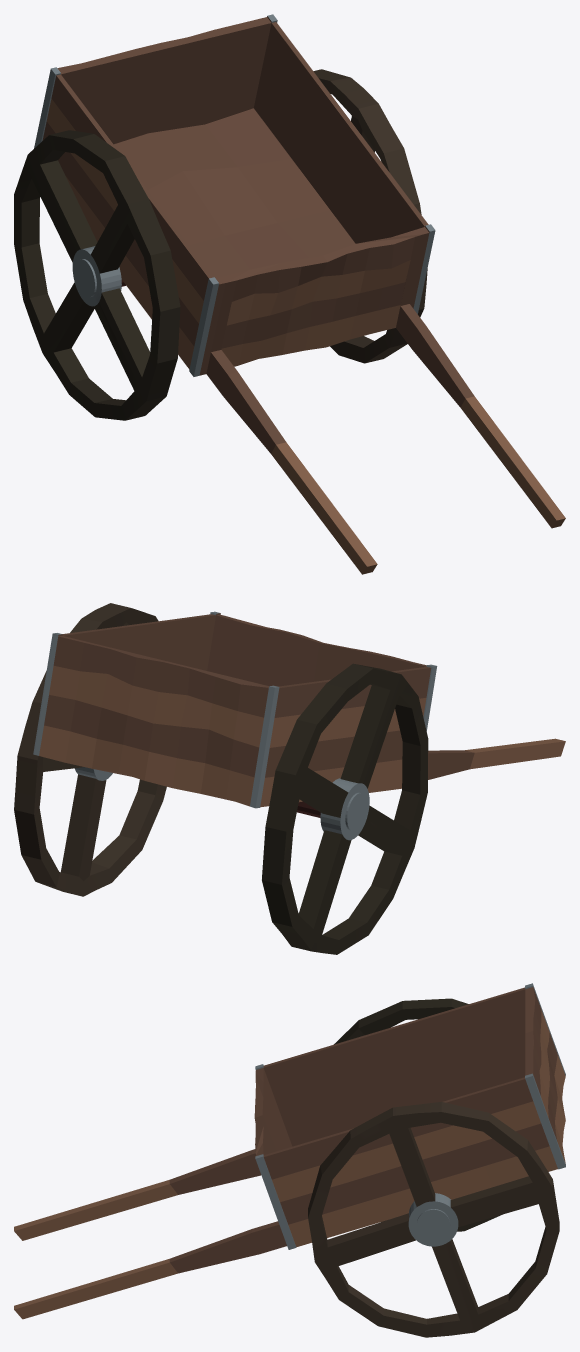
File: Cart.gltf
3 views of the same model, one above another, from view 1: azimuth 30°, elevation 25°; view 2: azimuth 150°, elevation 25°; view 3: azimuth 270°, elevation 25° (orthographic). The views are drawn at different scales.
Visible parts, largest first — view 1: колеса, колеса.002, колеса.001; view 2: колеса, колеса.002, колеса.001; view 3: колеса, колеса.001, колеса.002.
Boxes of the visible parts, x1=… form: колеса: x1=34, y1=14, x2=565, y2=574; колеса.002: x1=14, y1=130, x2=180, y2=420; колеса.001: x1=313, y1=69, x2=427, y2=363; колеса: x1=33, y1=611, x2=565, y2=817; колеса.002: x1=262, y1=663, x2=428, y2=954; колеса.001: x1=14, y1=603, x2=166, y2=896; колеса: x1=14, y1=983, x2=565, y2=1319; колеса.001: x1=308, y1=1101, x2=559, y2=1337; колеса.002: x1=334, y1=998, x2=502, y2=1231.
Bounding box in the file's own units: 0.6022 × 0.6228 × 1.23.
Materials: 1 (1 with a texture image).
